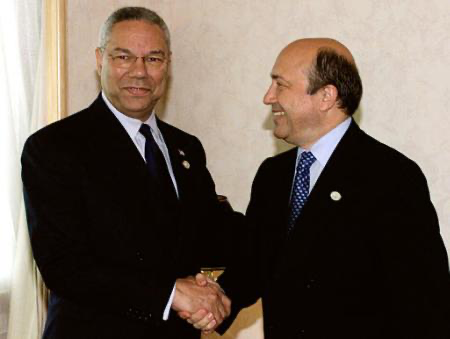Face: (255, 43, 326, 152), (96, 21, 167, 119)
